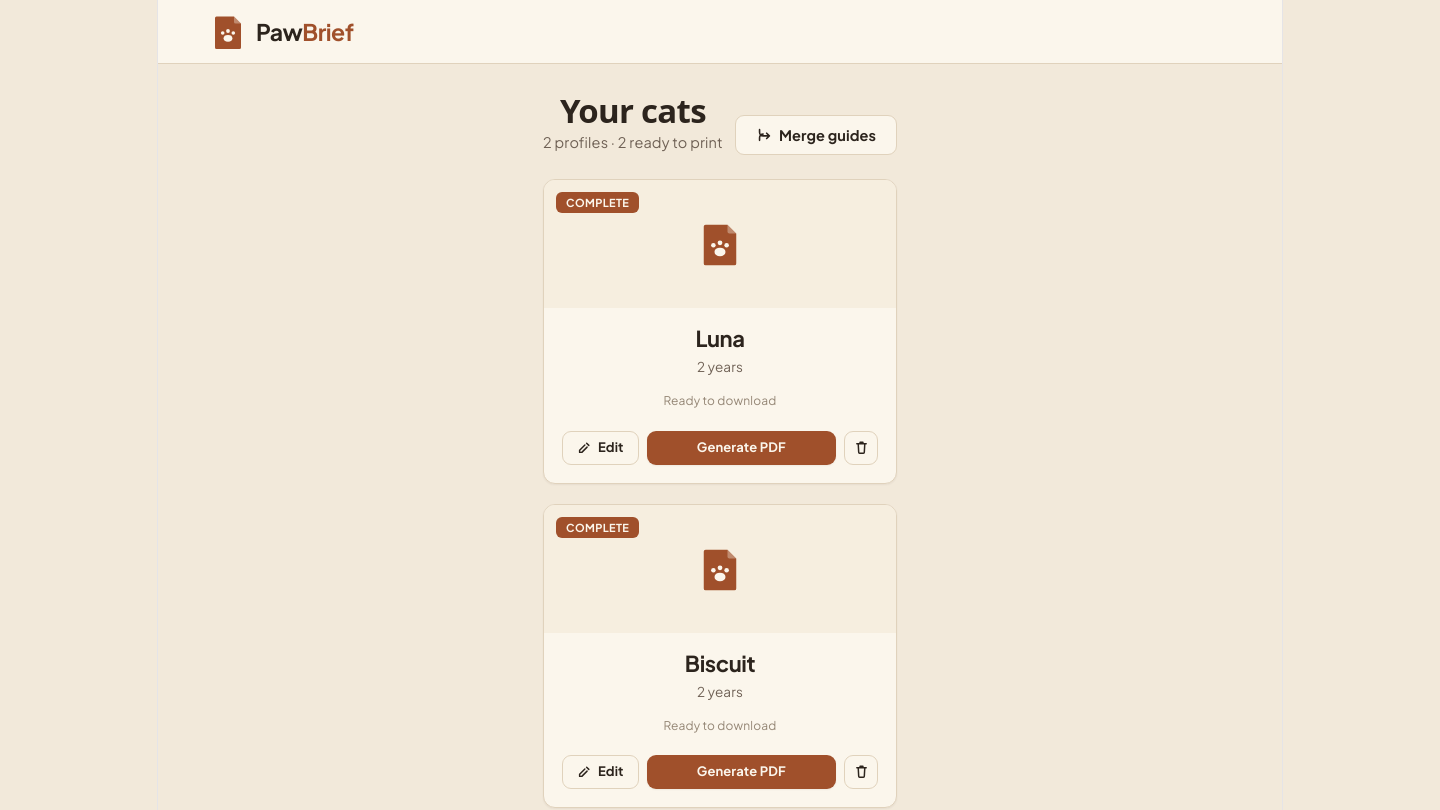
it: DashboardPage merge mode › complete profiles become selectable after clicking 'Merge guides'
What coordinates should you click on to do the following:
click the button "Merge guides"
I would click on:
 (816, 135)
Its box is [735,115,897,155].
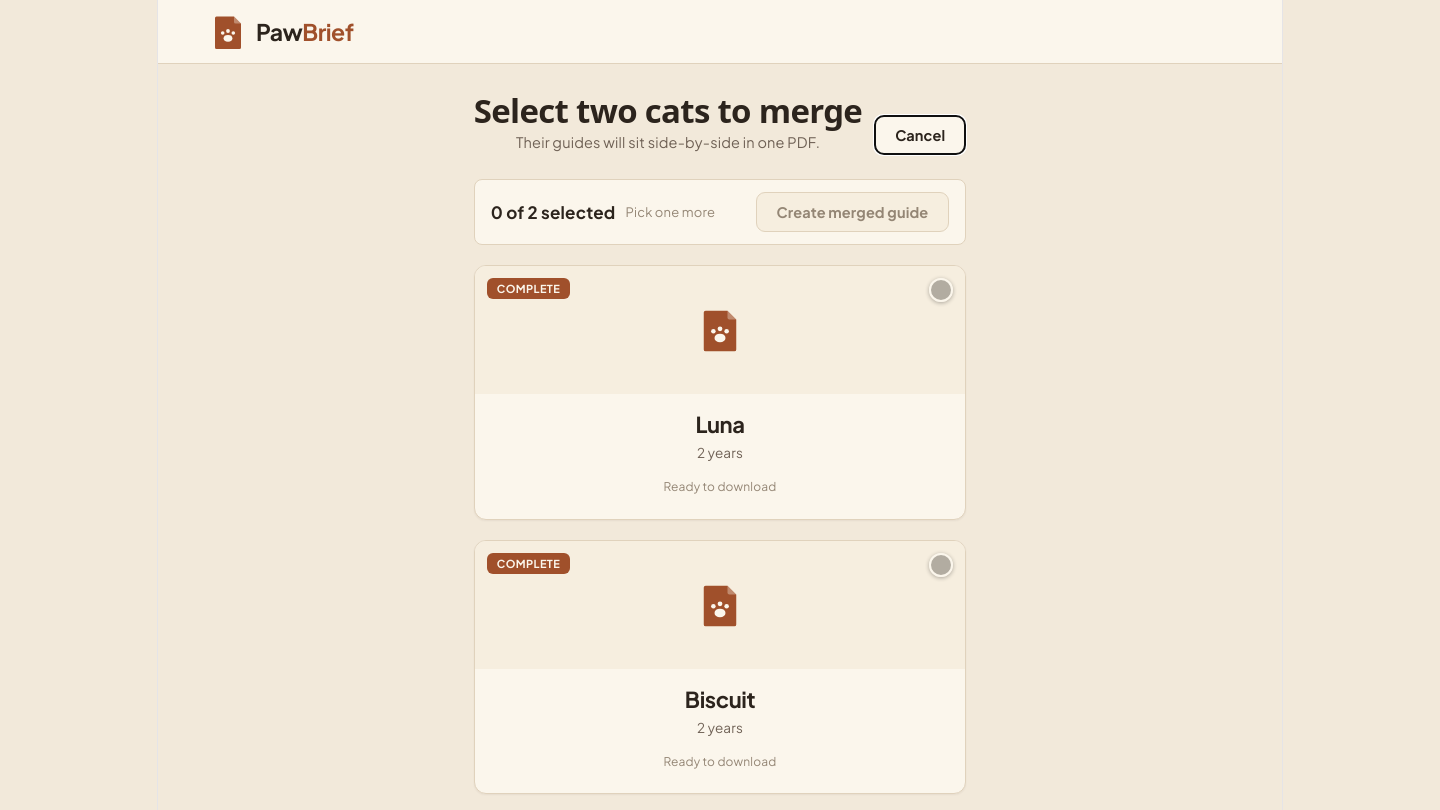
Result: the checkbox named "luna" is shown at [929,278,953,302]
